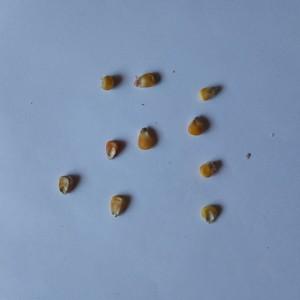maiz: (106, 193, 130, 219), (185, 116, 209, 137), (199, 203, 220, 227), (133, 71, 158, 91), (138, 126, 156, 153), (197, 83, 218, 103), (56, 172, 72, 196), (104, 138, 120, 161), (199, 160, 218, 179), (97, 73, 115, 91)
